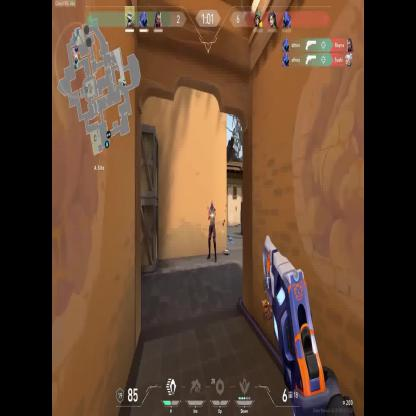enemy: (207, 200, 217, 262)
enemy_head: (211, 200, 213, 207)
